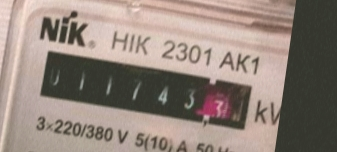0: (44, 59, 62, 87)
1: (71, 62, 89, 92), (98, 67, 115, 97)
3: (178, 83, 196, 111), (206, 97, 224, 120)
4: (153, 80, 170, 107)
7: (125, 74, 143, 101)
screen: (28, 43, 261, 138)
